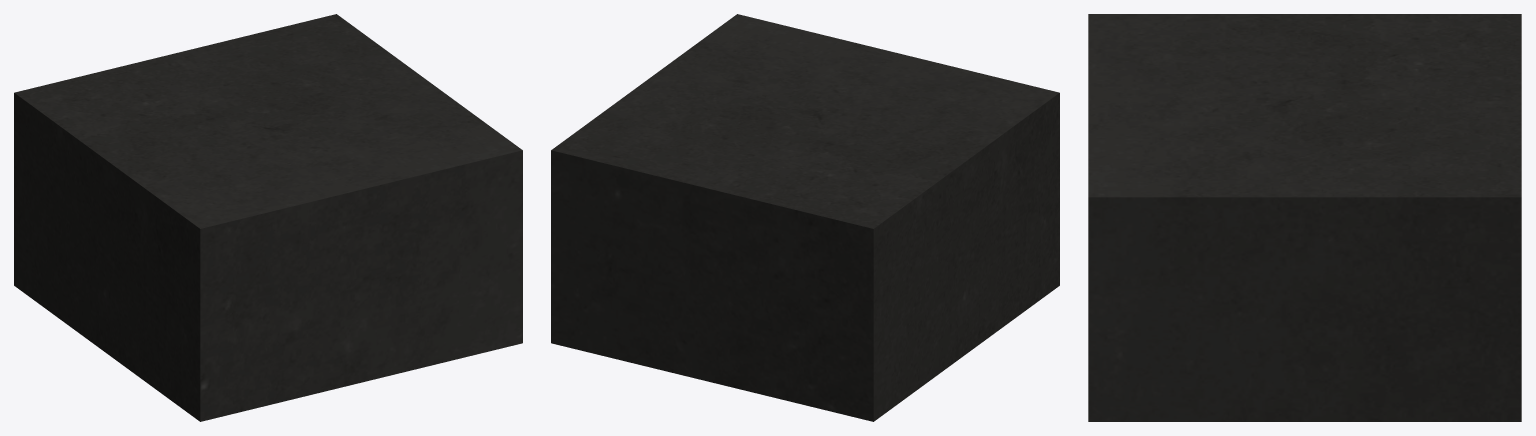
Rendered from RenderEnvironment.fbx.
3 renders of one model, left to right at view 1: azimuth 30°, elevation 25°; view 2: azimuth 150°, elevation 25°; view 3: azimuth 270°, elevation 25°, orthographic. The views are drawn at different scales.
Parts seen in each view (by area): view 1: Room; view 2: Room; view 3: Room.
Part boxes in pixels (<box>): Room: <box>14,14,522,421</box>; Room: <box>551,14,1059,421</box>; Room: <box>1088,14,1521,421</box>.
Size of the model in its own units: 10.49 by 6 by 10.49.
